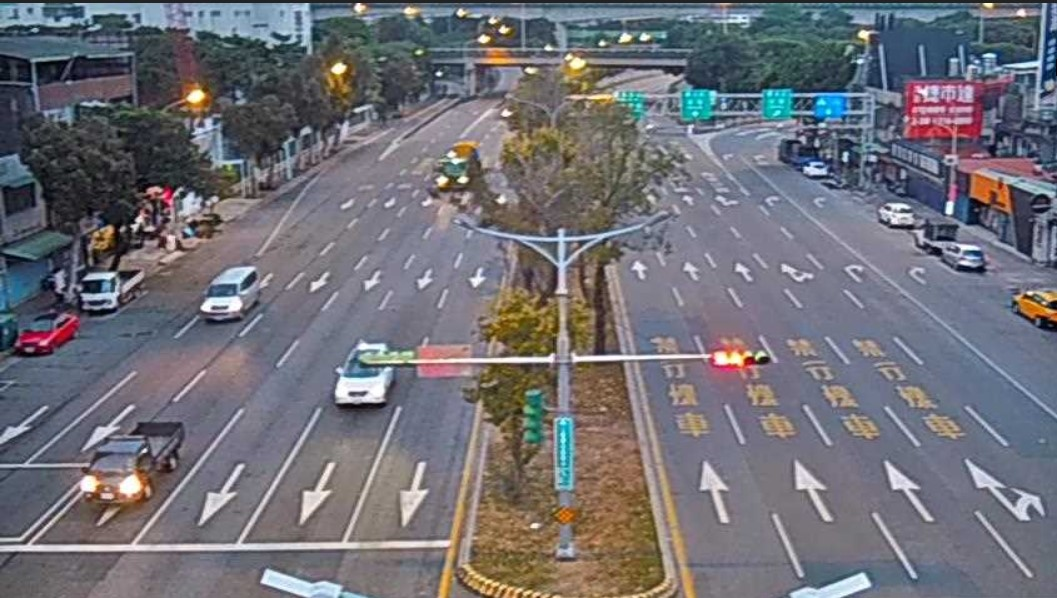Bus: (90, 418, 189, 502), (74, 265, 143, 313), (433, 136, 479, 194), (913, 213, 956, 258)
Business Passenger Car: (1009, 279, 1057, 329)
Private Passenger Car: (330, 328, 389, 410), (201, 261, 254, 320), (15, 310, 73, 361), (938, 245, 993, 271), (877, 196, 915, 228)
